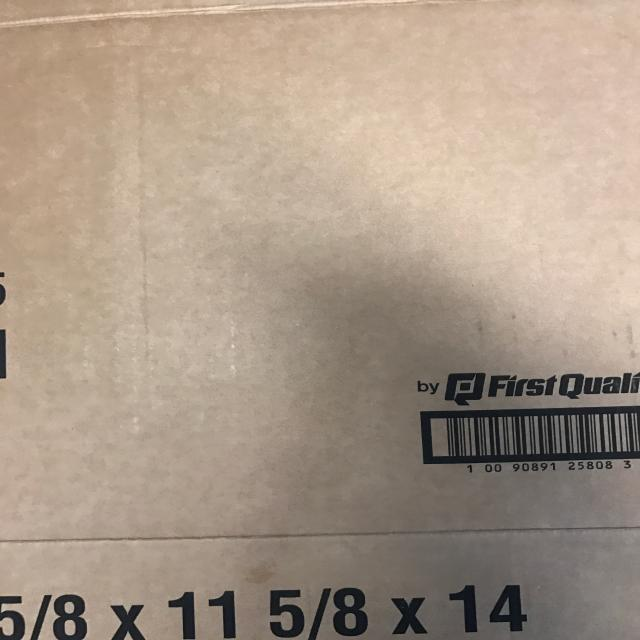cardboard: (1, 0, 638, 638)
